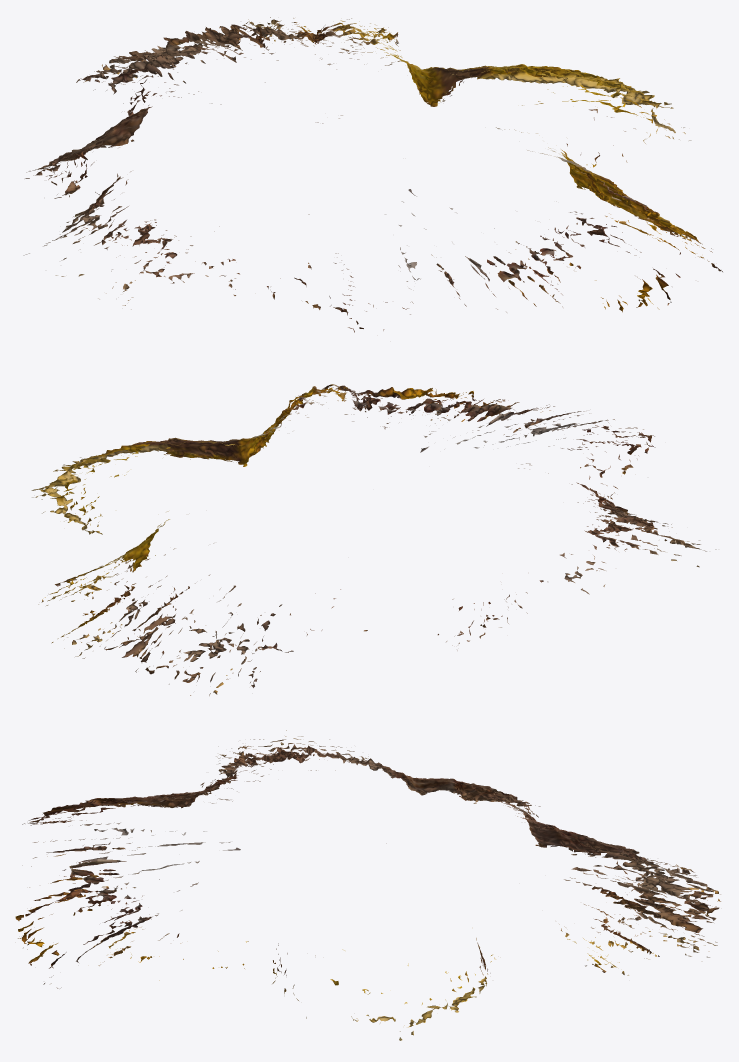
The model's file is world-1769821071147.glb.
The picture shows the model from 3 angles, top to bottom: view 1: azimuth 30°, elevation 25°; view 2: azimuth 150°, elevation 25°; view 3: azimuth 270°, elevation 25°; orthographic projection. The views are drawn at different scales.
Visible parts, largest first — view 1: world; view 2: world; view 3: world.
Boxes of the visible parts, x1,y1,x2,y2 form: world: (23, 17, 722, 332); world: (31, 384, 716, 695); world: (15, 730, 720, 1040).
Bounding box in the file's own units: 178 × 19.26 × 184.
